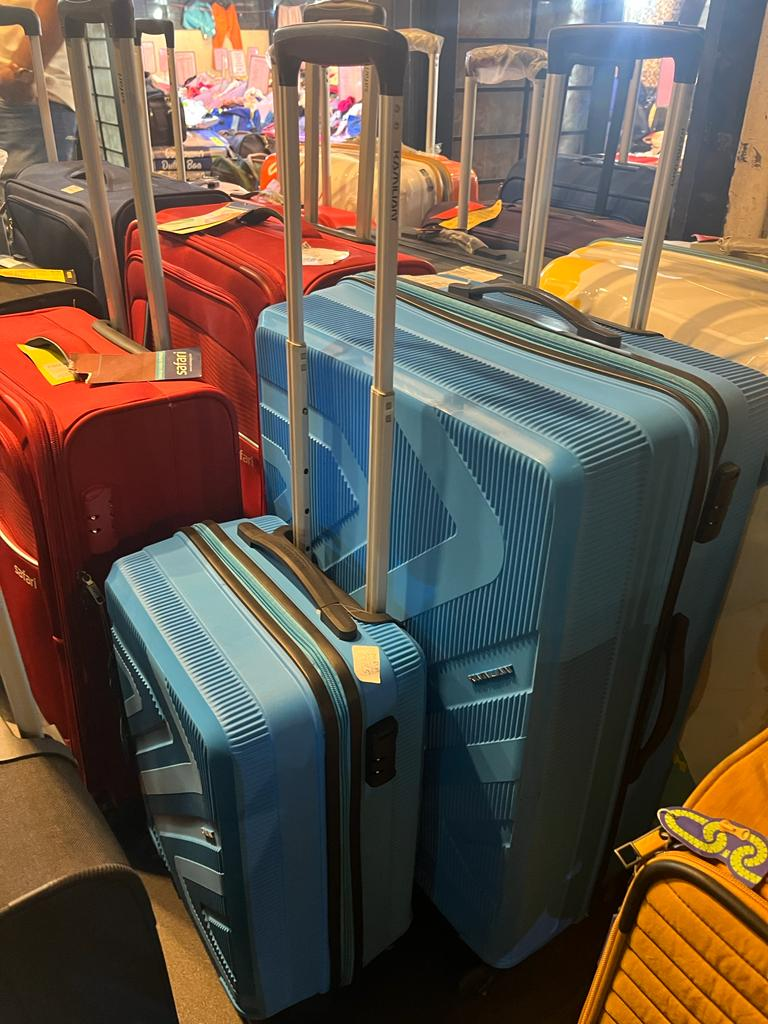Bag: (101, 20, 436, 1024), (0, 0, 244, 796)
Handle: (256, 10, 415, 639), (520, 15, 721, 335), (44, 0, 185, 346), (450, 36, 552, 249), (133, 12, 196, 190), (1, 5, 61, 158), (400, 25, 459, 148)
